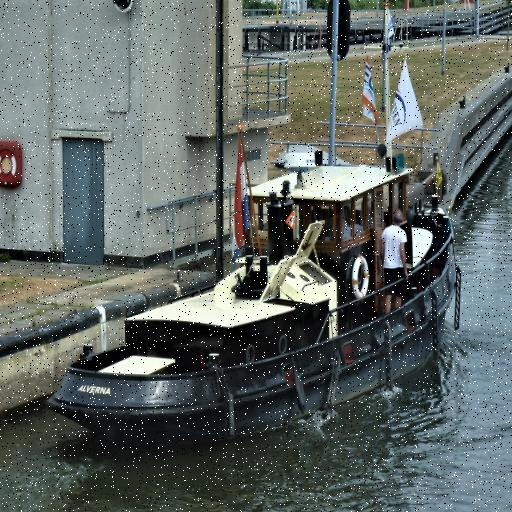tugboat: (44, 2, 468, 457)
